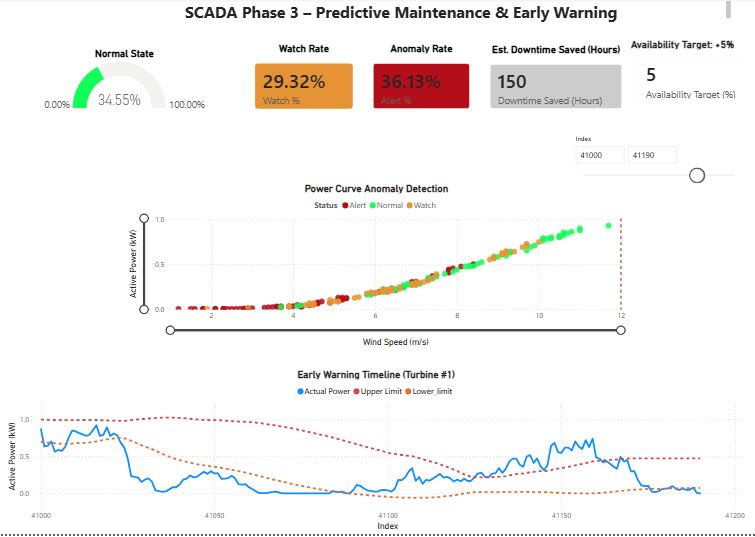

What the dashboard file says about the page in this screenshot:
{"tool":"powerbi","page":{"name":"Page 1","canvas":[1280,900],"ordinal":0},"visuals":[{"type":"scatterChart","title":"Power Curve Anomaly Detection","fields":{"X":["scada_output.wind_speed_3_avg"],"Y":["scada_output.power_29_avg"],"Series":["scada_output.Status"]},"box":[218.4,309.1,844.9,280.5],"z":0},{"type":"lineChart","title":"Early Warning Timeline (Turbine #1)","fields":{"Category":["scada_output.Index"],"Y":["Avg(scada_output.power_29_avg)","Avg(scada_output.upper_limit)","Avg(scada_output.lower_limit)"]},"box":[15.1,621.5,1249.8,278.8],"z":1000},{"type":"slicer","fields":{"Values":["scada_output.Index"]},"box":[962.5,225.1,302.4,114.2],"z":2000},{"type":"cardVisual","title":"Watch Rate","fields":{"Data":["scada_output.Watch %"]},"box":[419.9,73.9,198.2,129.3],"z":3000},{"type":"cardVisual","title":"Anomaly Rate","fields":{"Data":["scada_output.Alert %"]},"box":[618.2,73.9,196.5,129.3],"z":4000},{"type":"gauge","title":"Normal State","fields":{"Y":["scada_output.Normal %"]},"box":[45.4,82.3,344.4,112.5],"z":5000},{"type":"textbox","box":[131,0,1110.3,48.7],"z":6000},{"type":"cardVisual","title":"Est. Downtime Saved (Hours)","fields":{"Data":["scada_output.Downtime Saved (Hours)"]},"box":[814.7,67.2,255.3,127.7],"z":7000},{"type":"cardVisual","title":"Availability Target: +5%","fields":{"Data":["scada_output.Availability Target (%)"]},"box":[1063.3,67.2,216.7,120.9],"z":8000}]}

Visuals, with their boxes in screenshot pixels (x1, y1, x2, y2), scaled from the page's 1280x900 canvas onto the 755x537 screenshot:
"Power Curve Anomaly Detection" scatterChart: box=[129, 184, 627, 352]
"Early Warning Timeline (Turbine #1)" lineChart: box=[9, 371, 746, 536]
slicer - scada_output.Index: box=[568, 134, 746, 202]
"Watch Rate" cardVisual: box=[248, 44, 365, 121]
"Anomaly Rate" cardVisual: box=[365, 44, 481, 121]
"Normal State" gauge: box=[27, 49, 230, 116]
textbox: box=[77, 0, 732, 29]
"Est. Downtime Saved (Hours)" cardVisual: box=[481, 40, 631, 116]
"Availability Target: +5%" cardVisual: box=[627, 40, 754, 112]
